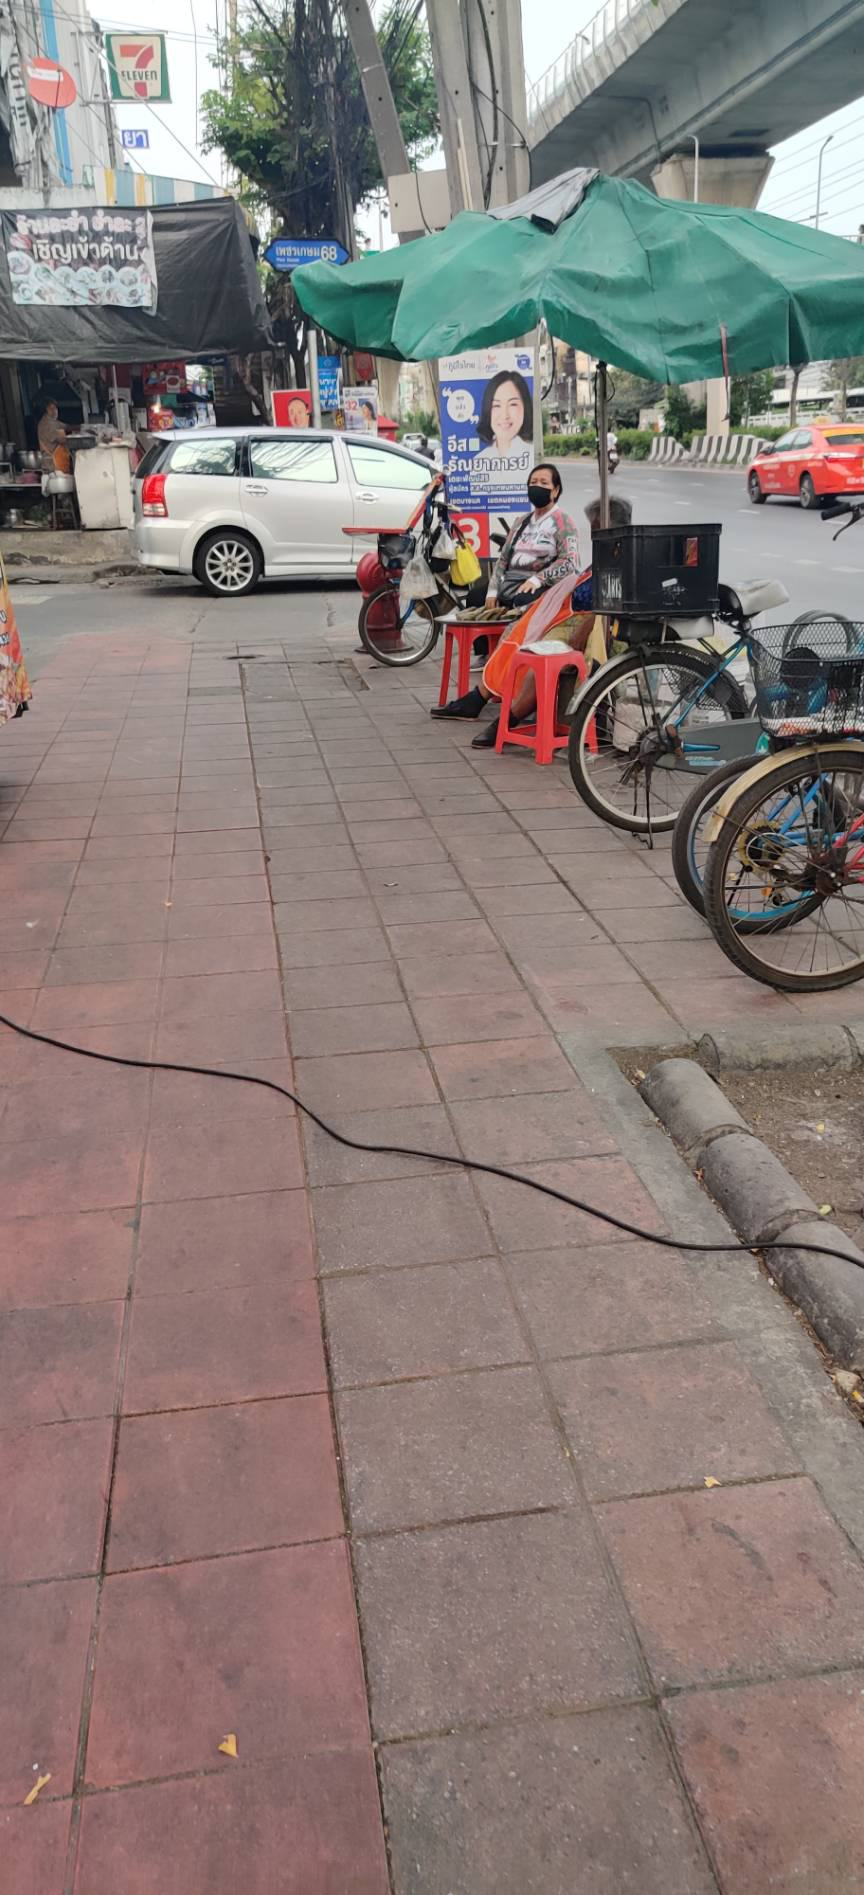Banner: (442, 344, 562, 517)
